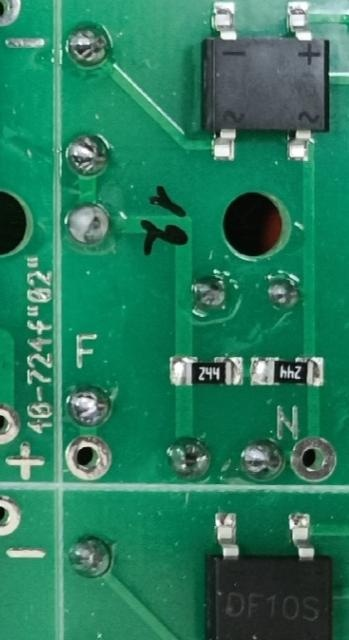chip-resistor: (248, 354, 327, 389), (167, 353, 243, 387)
ic: (200, 0, 333, 164), (201, 506, 337, 640)
